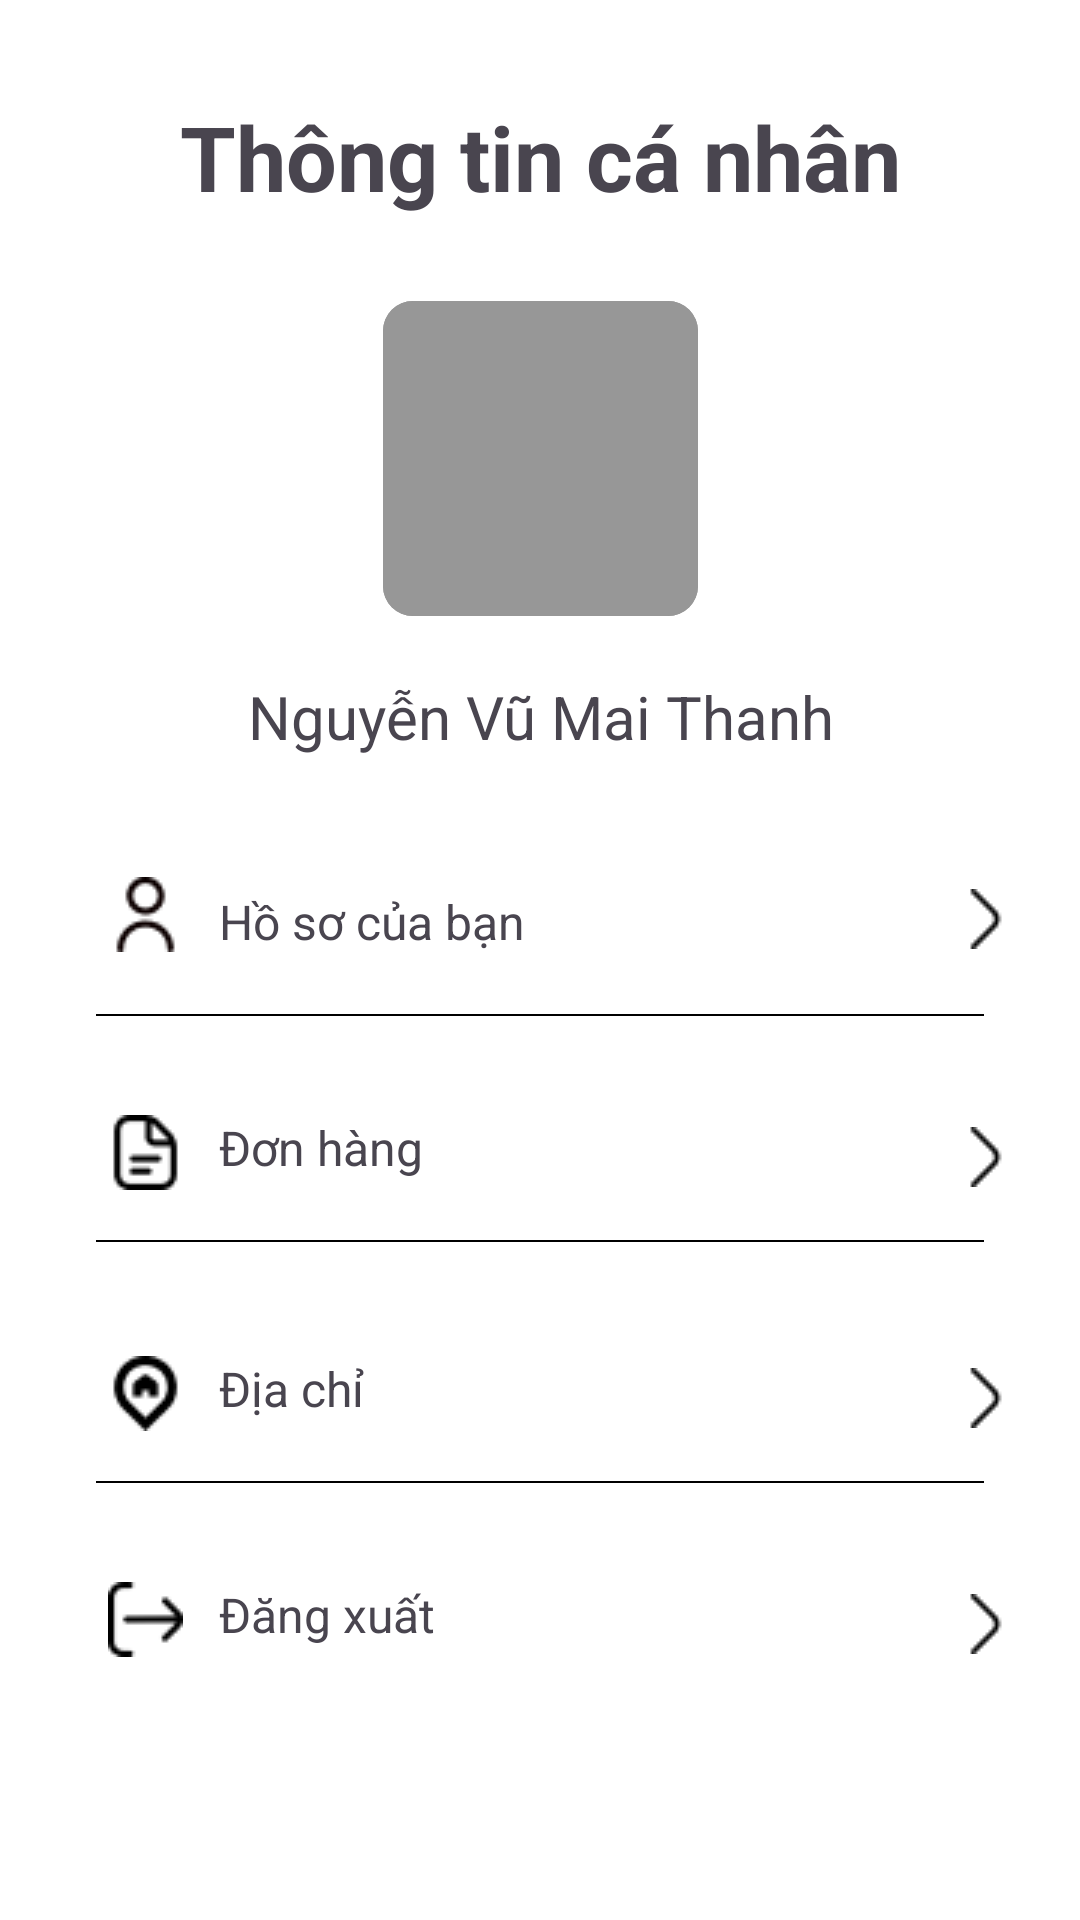

Icon bounding boxes for this 1080px x 1920px phone screenshot, format (x1, y1, x2, y2):
dangxuat: (108, 1582, 183, 1657)
diachi: (113, 1356, 178, 1431)
donhang: (113, 1115, 178, 1190)
morong: (970, 889, 1002, 949), (970, 1127, 1002, 1187), (970, 1368, 1002, 1428), (970, 1594, 1002, 1654)
profile: (116, 877, 175, 952)
